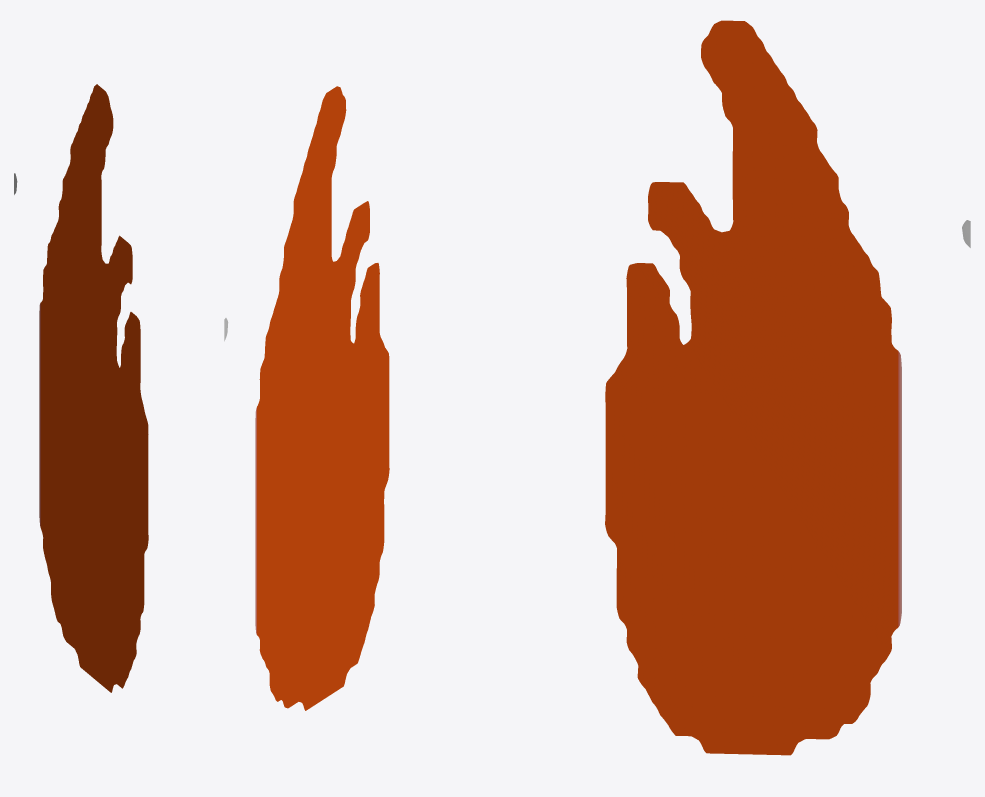
Rendered from FireTorch02_Art.glb.
3 renders of one model, left to right at view 1: azimuth 30°, elevation 25°; view 2: azimuth 150°, elevation 25°; view 3: azimuth 270°, elevation 25°, orthographic. The views are drawn at different scales.
Parts seen in each view (by area): view 1: FireTorch02_Art; view 2: FireTorch02_Art; view 3: FireTorch02_Art.
Boxes of the visible parts, left/top/right/bottom form: FireTorch02_Art: left=14, top=84, right=148, bottom=692; FireTorch02_Art: left=224, top=86, right=389, bottom=710; FireTorch02_Art: left=605, top=20, right=970, bottom=755.
Size of the model in its own units: 0.0188 by 0.5724 by 0.3387.
Materials: 1 (1 with a texture image).
